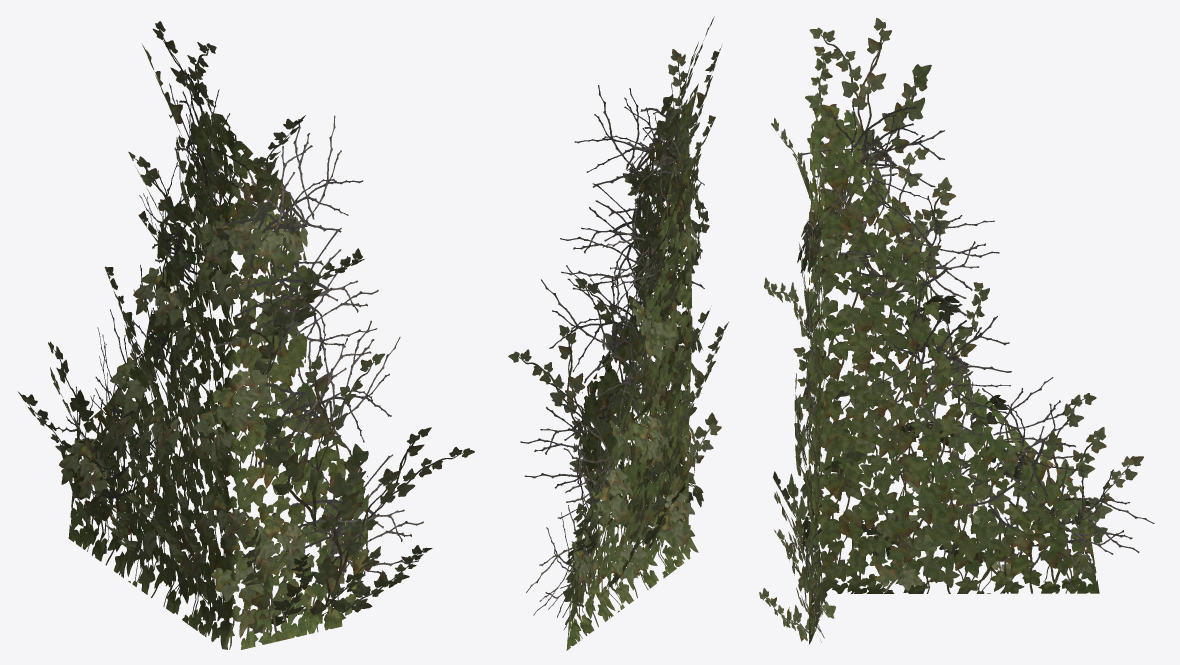
Rendered from ivy011lod0.dae.
The picture shows the model from 3 angles, left to right: view 1: azimuth 30°, elevation 25°; view 2: azimuth 150°, elevation 25°; view 3: azimuth 270°, elevation 25°; orthographic projection. The views are drawn at different scales.
Visible parts, largest first — view 1: SM_Ivy_Corner_01_LOD; view 2: SM_Ivy_Corner_01_LOD; view 3: SM_Ivy_Corner_01_LOD.
Part boxes in pixels (x1,y1,x2,y2): SM_Ivy_Corner_01_LOD: (18,21,474,649); SM_Ivy_Corner_01_LOD: (508,16,728,650); SM_Ivy_Corner_01_LOD: (759,18,1154,644).
Size of the model in its own units: 1.51 by 3.12 by 2.04.
